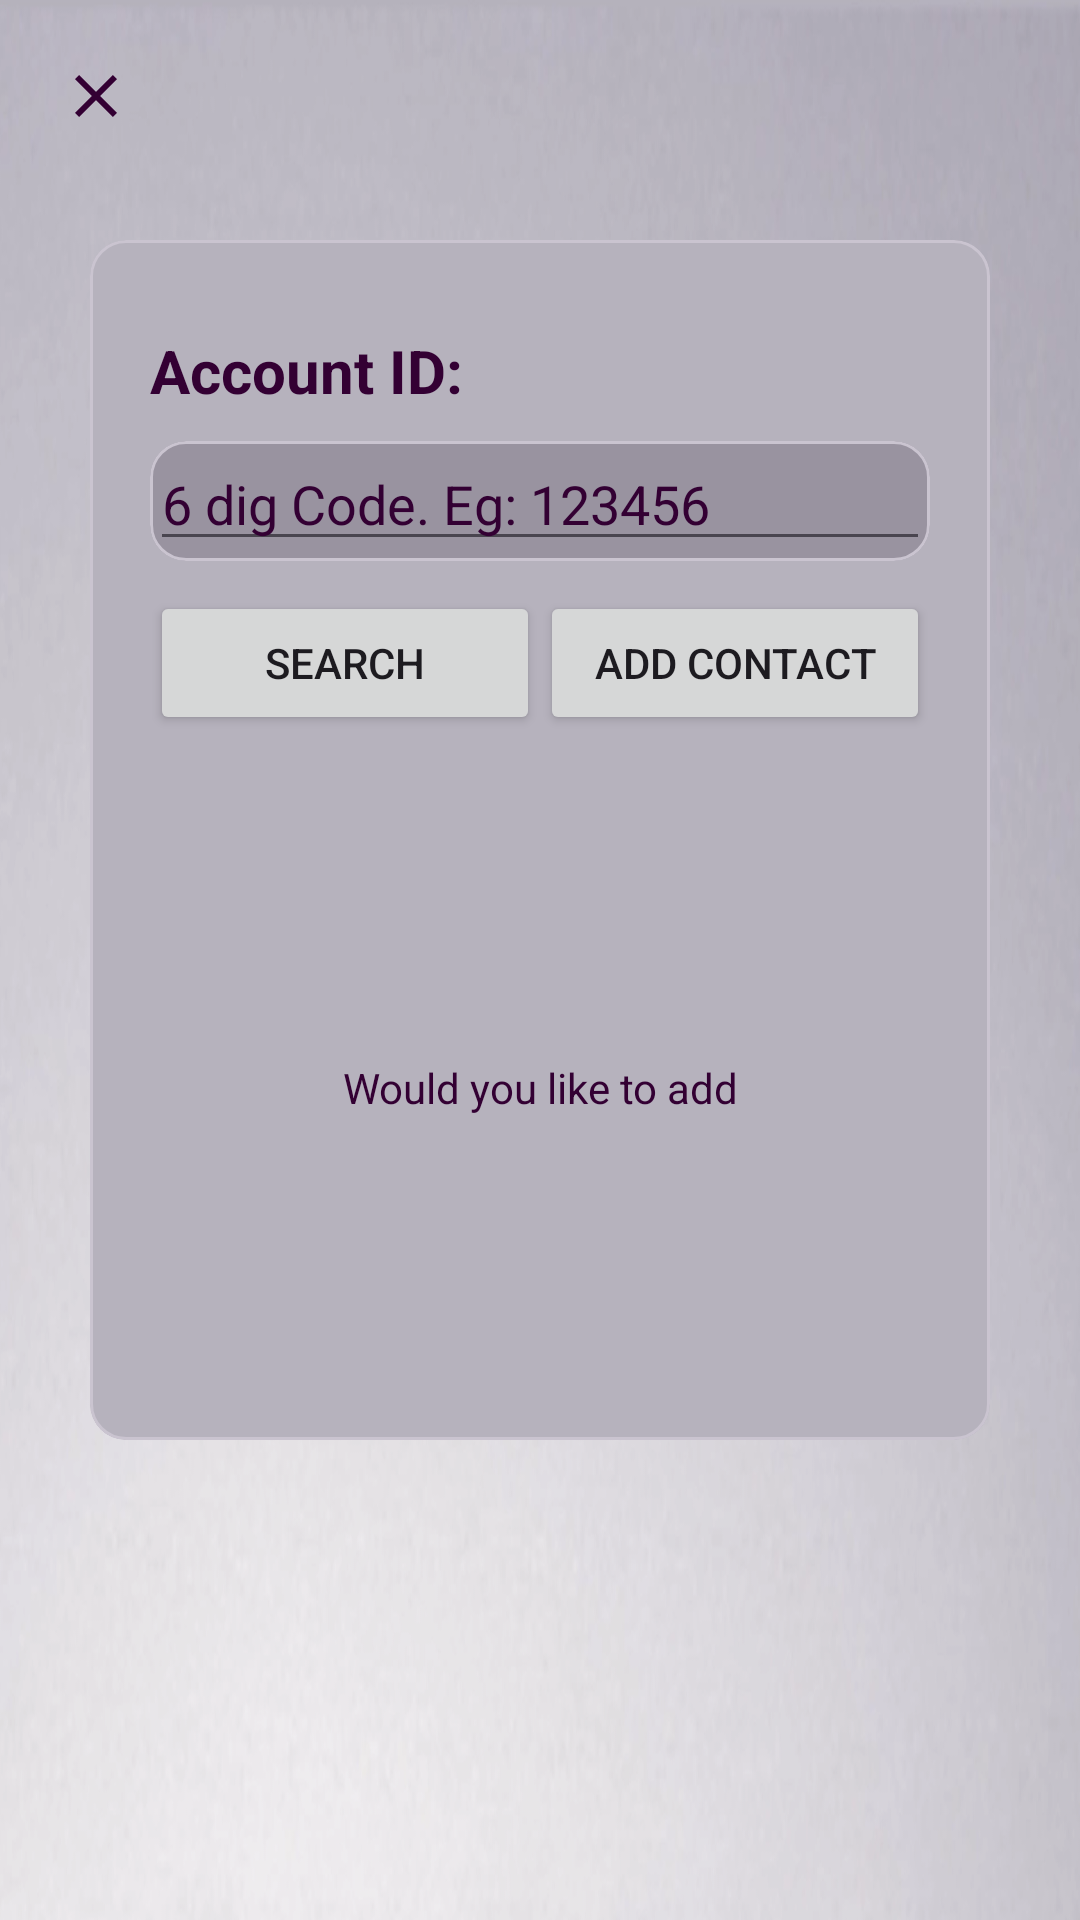

Where to tap for icons on this 1080 x 1920 app screen, as (x,y):
Closing arrow back to main menu: (96,96)
